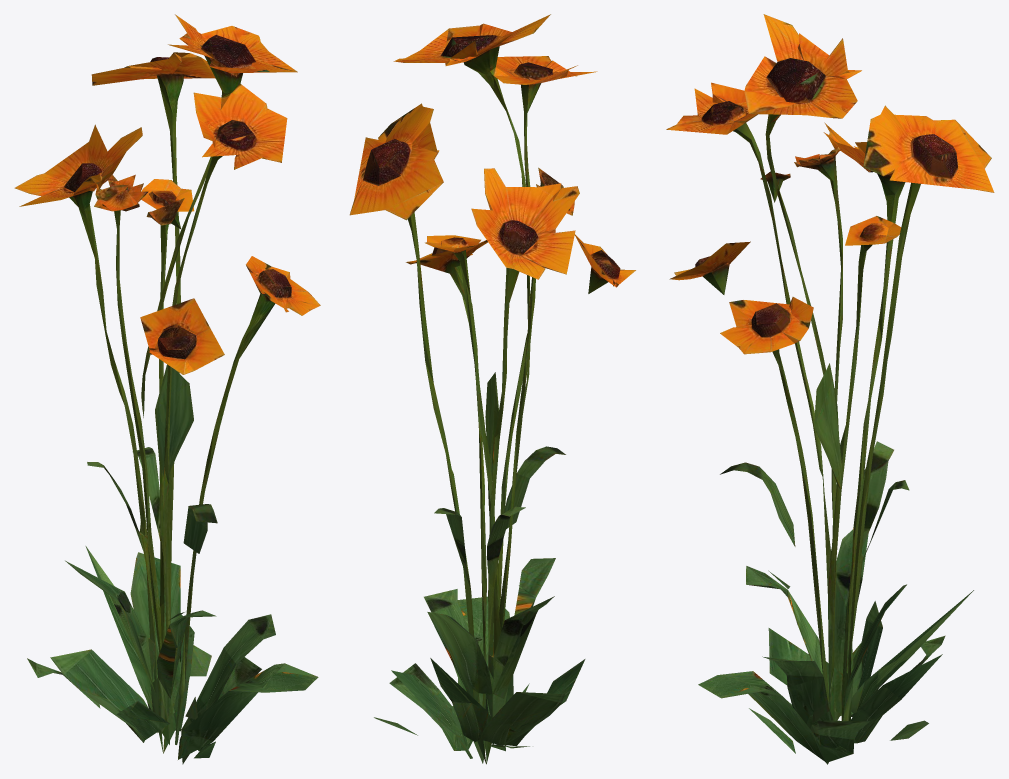
File: Flowers.glb
3 renders of one model, left to right at view 1: azimuth 30°, elevation 25°; view 2: azimuth 150°, elevation 25°; view 3: azimuth 270°, elevation 25°, orthographic. The views are drawn at different scales.
Bounding box in the file's own units: 0.1545 × 0.5 × 0.2033.
1 material, 1 textured.
